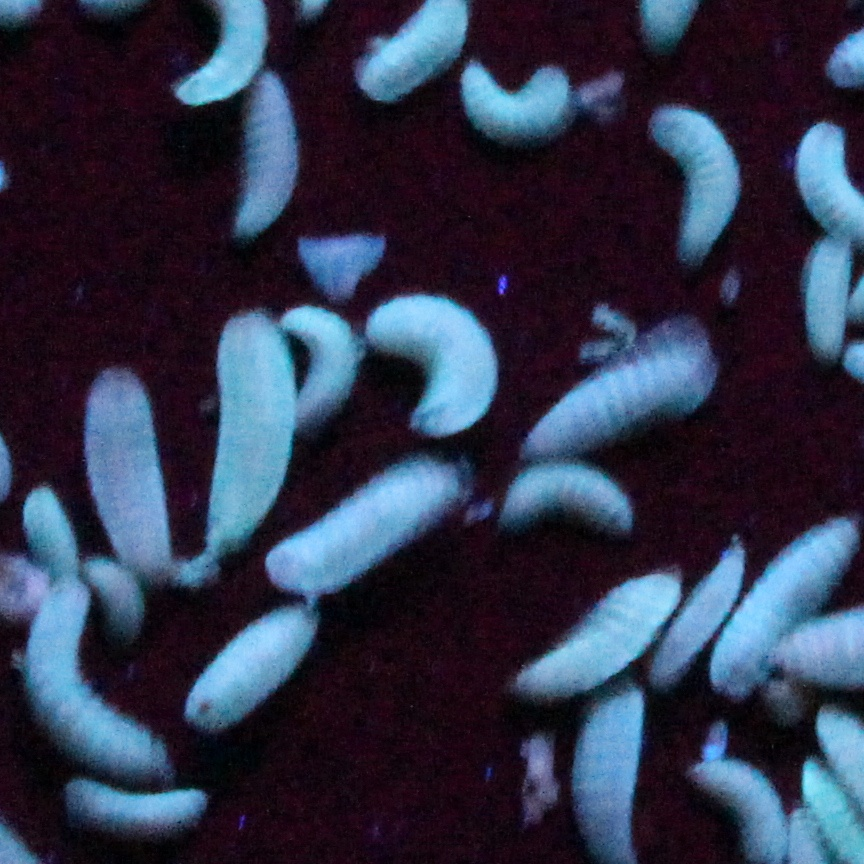larve: (705, 511, 863, 690), (522, 317, 724, 448), (36, 576, 169, 769), (269, 455, 467, 582), (503, 567, 688, 692), (205, 311, 297, 553), (80, 365, 180, 580), (365, 292, 503, 436), (640, 540, 744, 682), (188, 609, 317, 719), (653, 105, 742, 263), (282, 303, 361, 440), (499, 461, 634, 528), (242, 63, 294, 234), (72, 776, 209, 836), (465, 63, 572, 138), (801, 238, 853, 357), (92, 555, 151, 638)
